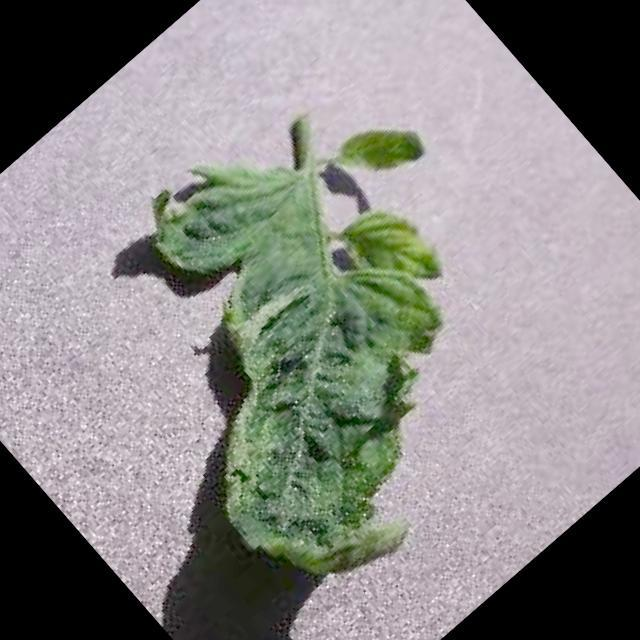Tomato mosaic virus leaf: (29, 38, 622, 633)
